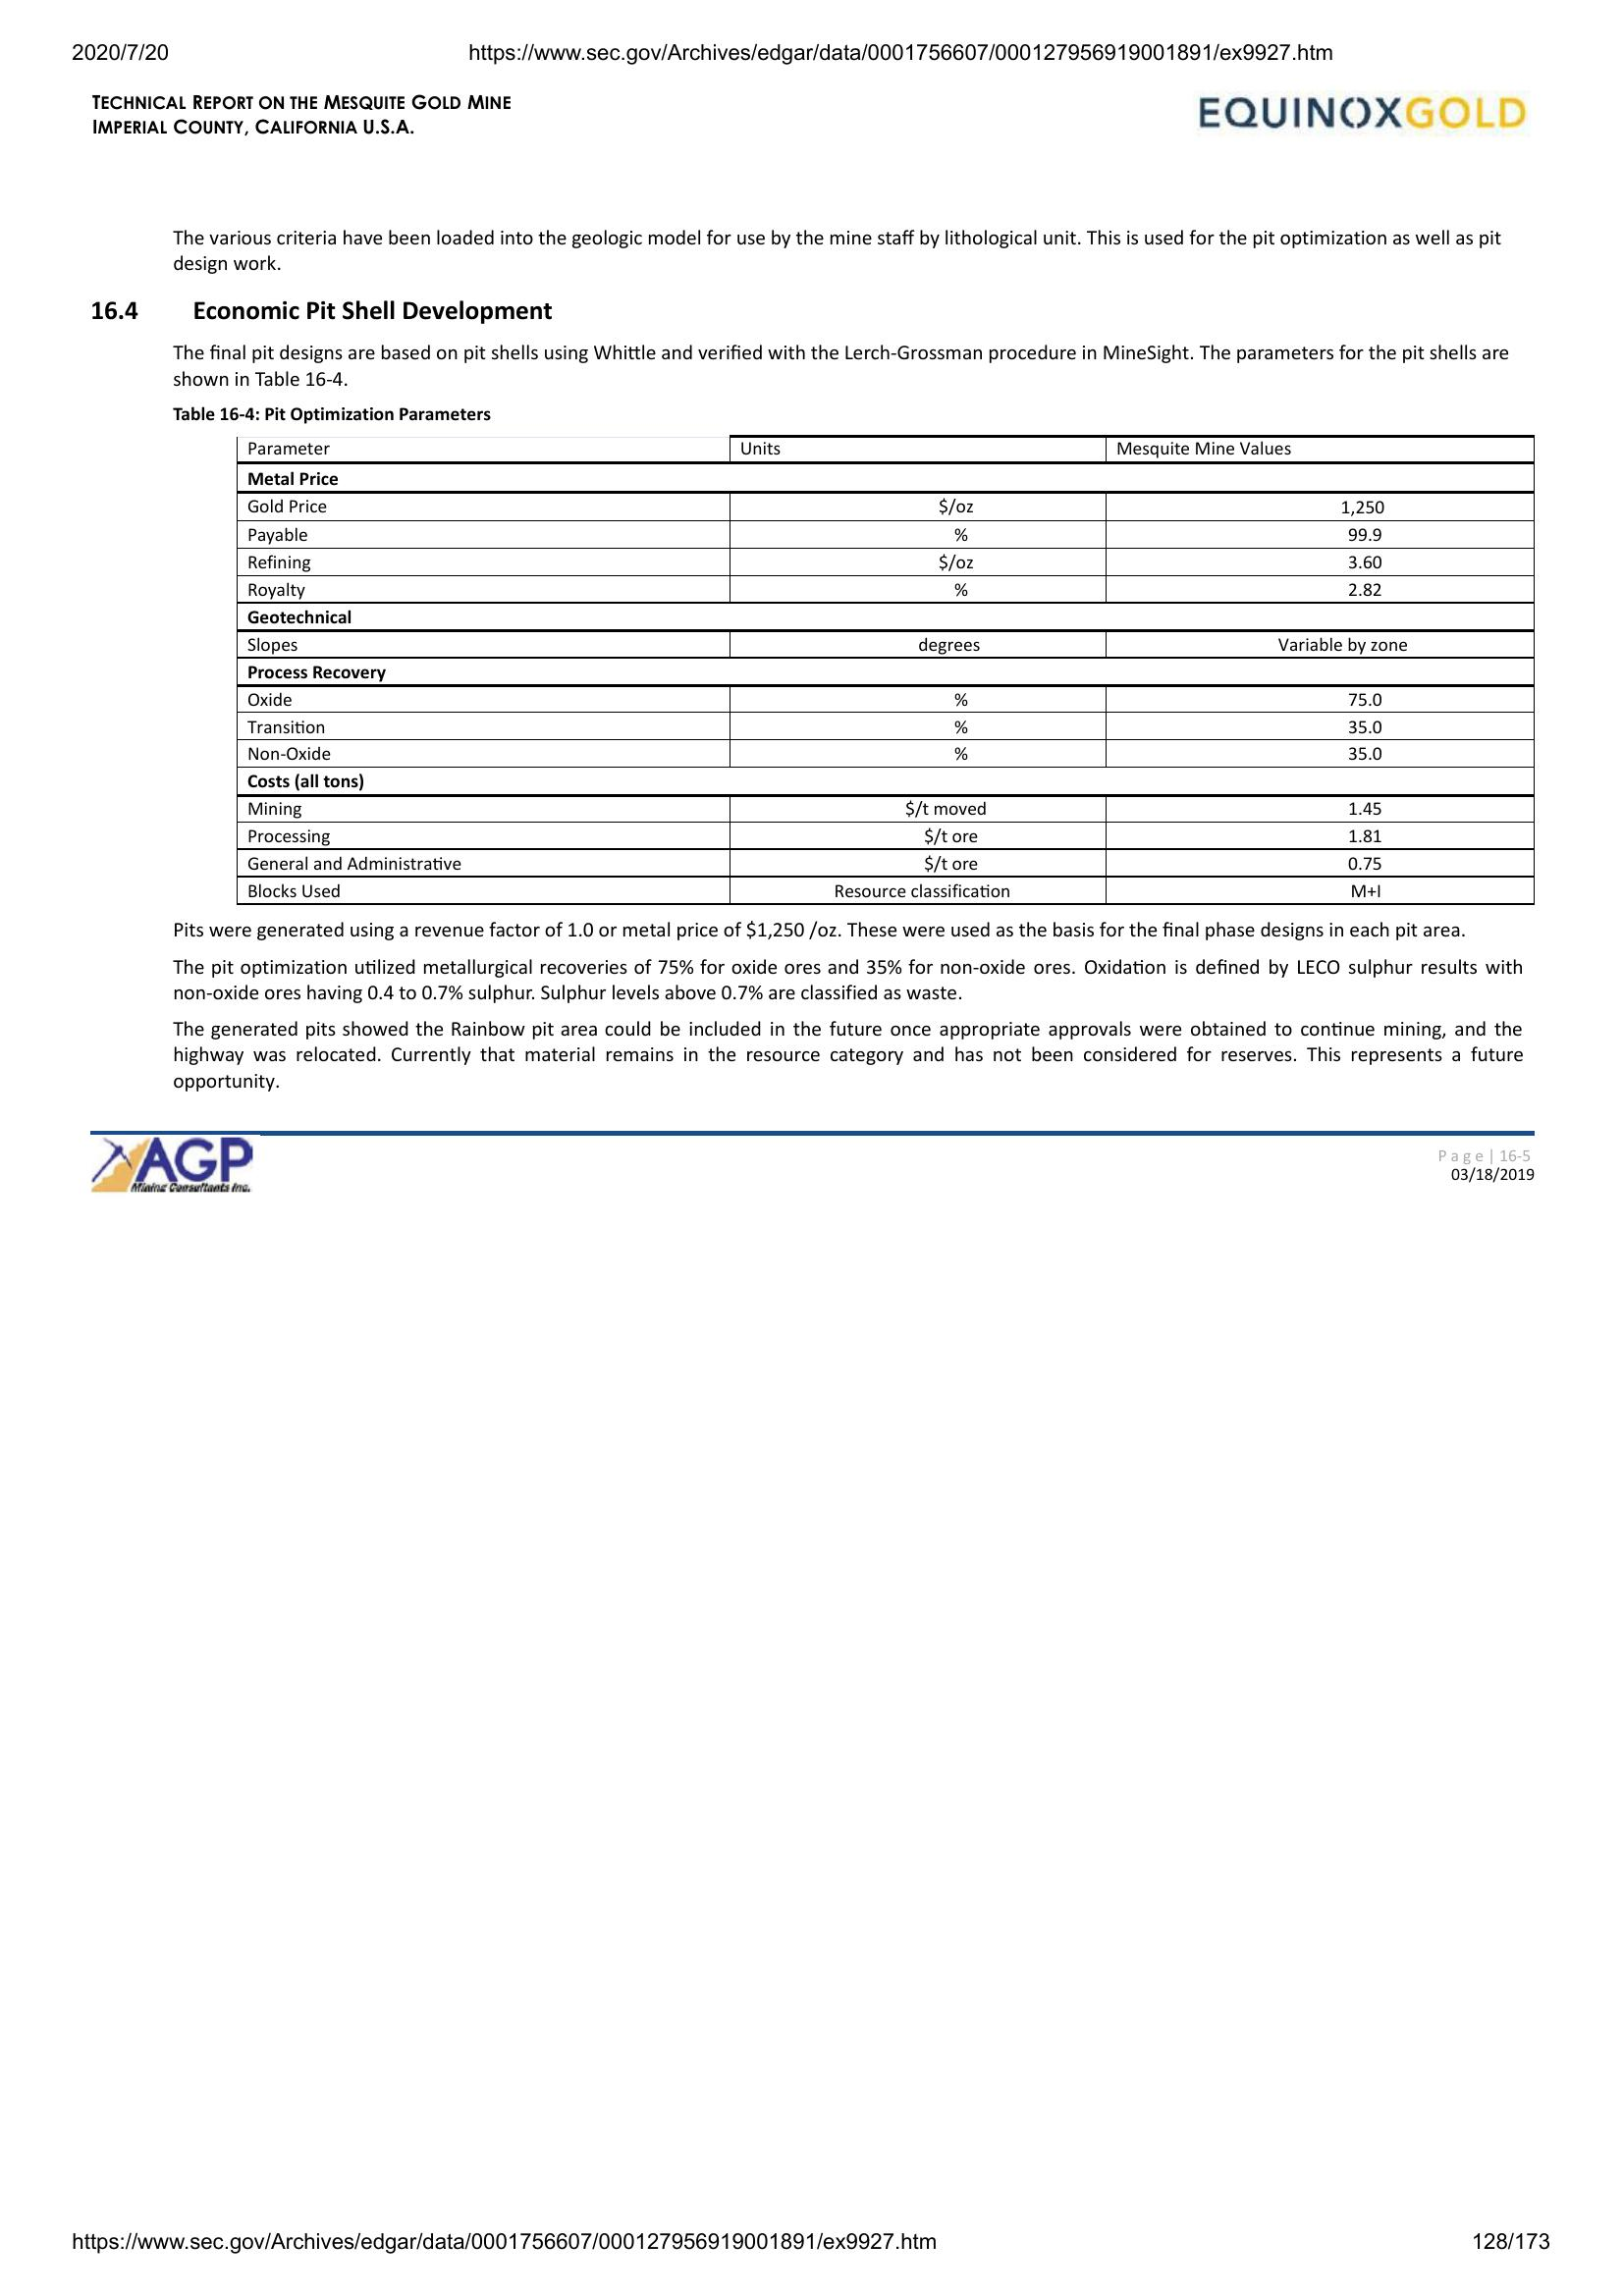table: (230, 430, 1544, 908)
